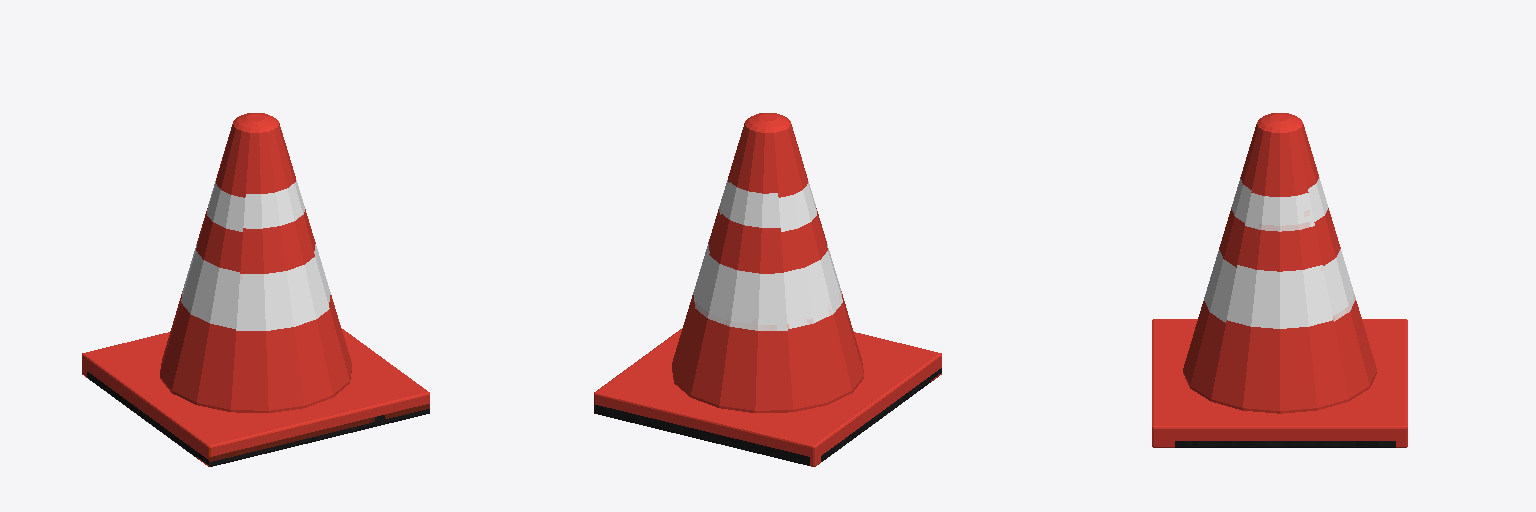
3 views of the same model, side by side, from view 1: azimuth 30°, elevation 25°; view 2: azimuth 150°, elevation 25°; view 3: azimuth 270°, elevation 25° (orthographic).
Visible parts, largest first — view 1: Traffic_Cone_Cylinder; view 2: Traffic_Cone_Cylinder; view 3: Traffic_Cone_Cylinder.
Boxes of the visible parts, <box> form: Traffic_Cone_Cylinder: <box>82,113,429,466</box>; Traffic_Cone_Cylinder: <box>594,113,941,466</box>; Traffic_Cone_Cylinder: <box>1152,113,1407,447</box>.
Bounding box in the file's own units: 0.58 × 0.6904 × 0.58.
1 materials, 1 textured.